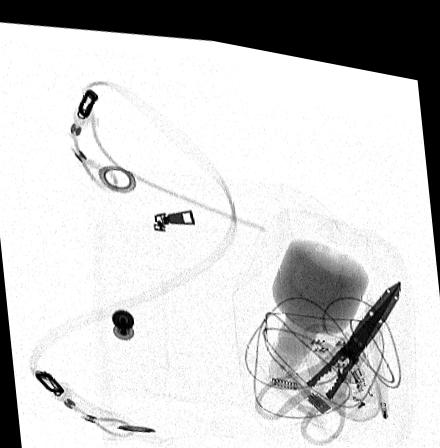Scissors: (253, 261, 405, 436)
